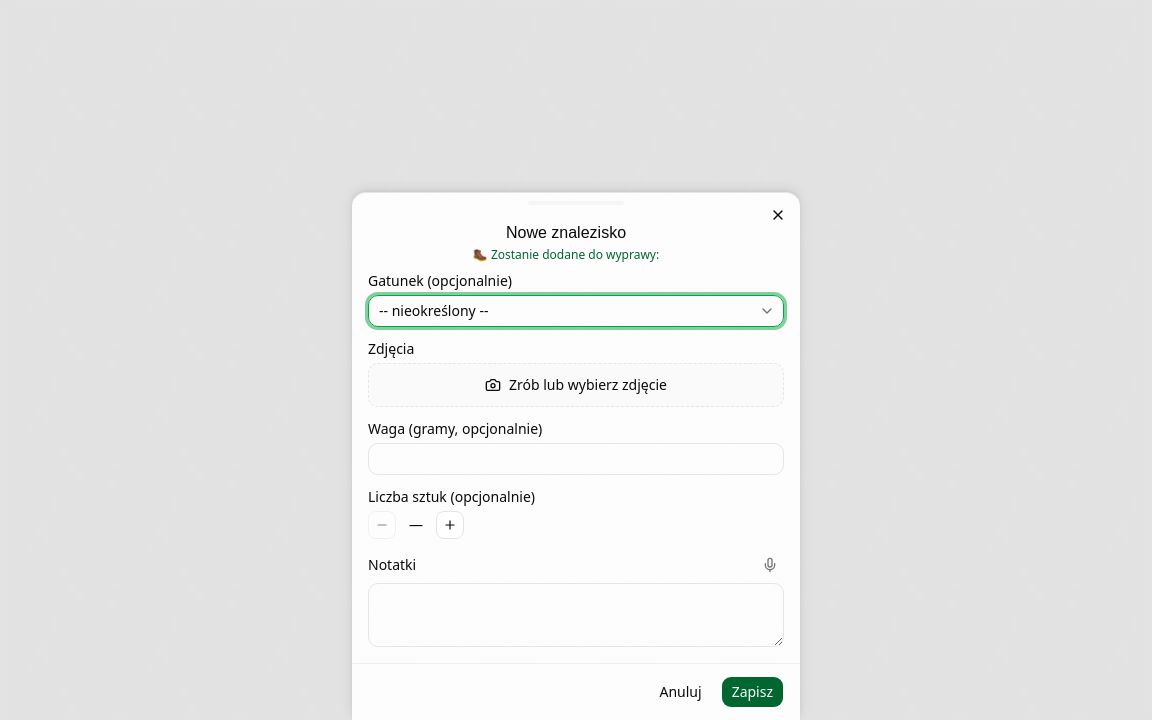
Test: AddFindingForm › pokazuje generyczny komunikat błędu przy innym niepowodzeniu zapisu
Click the button "Zapisz": (752, 692) [721, 676, 784, 708]
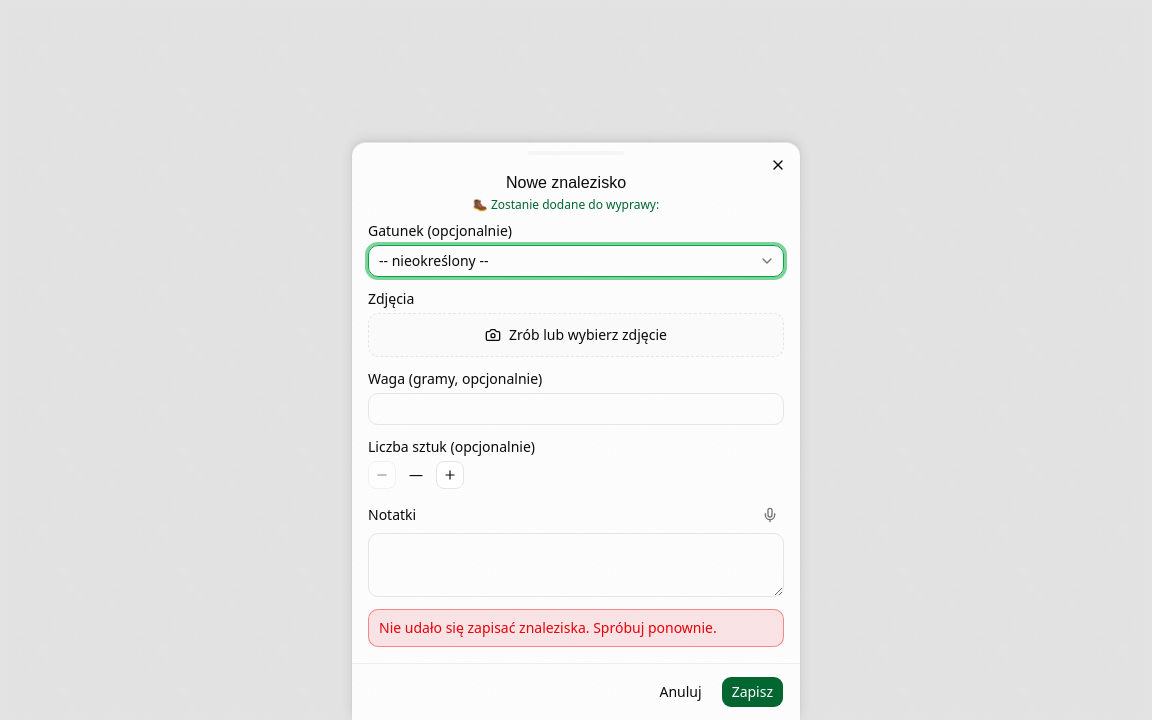
Now the text "Nie udało się zapisać znaleziska. Spróbuj ponownie." is shown, box [379, 618, 773, 638]
